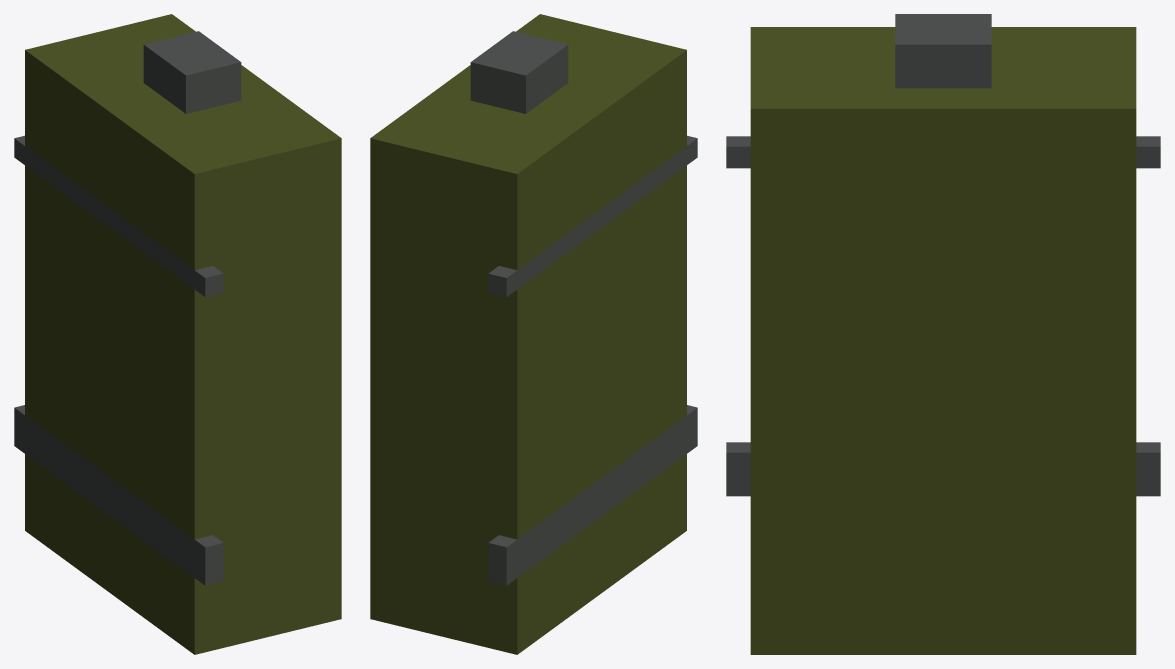
File: apc_fuel_tank.glb
3 views of the same model, side by side, from view 1: azimuth 30°, elevation 25°; view 2: azimuth 150°, elevation 25°; view 3: azimuth 270°, elevation 25° (orthographic). The views are drawn at different scales.
Visible parts, largest first — view 1: body:compound; view 2: body:compound; view 3: body:compound.
Boxes of the visible parts, left/top/right/bottom form: body:compound: left=14, top=14, right=341, bottom=654; body:compound: left=370, top=14, right=697, bottom=654; body:compound: left=726, top=14, right=1160, bottom=654.
Bounding box in the file's own units: 0.25 × 0.8438 × 0.5625.
